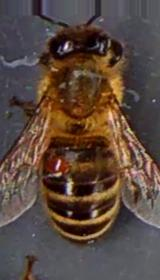varroa_mite: (46, 150, 78, 173)
